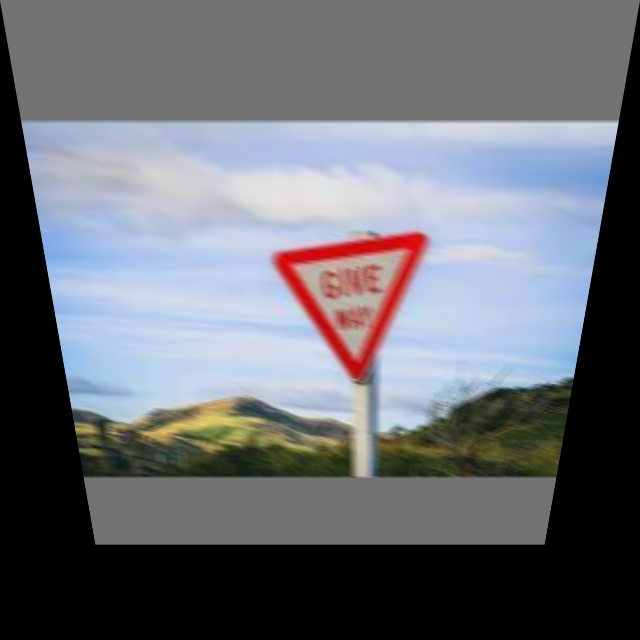Give_Way: (274, 236, 430, 377)
